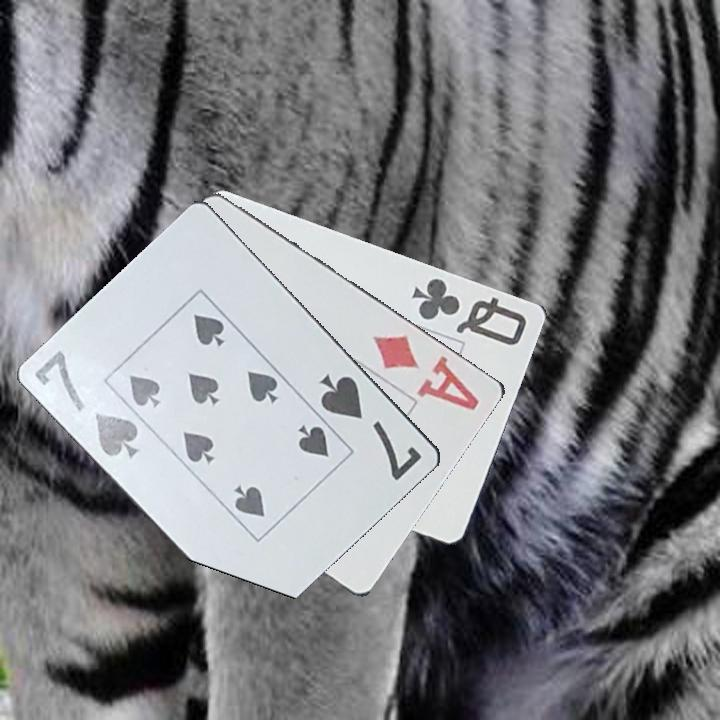7s: (31, 346, 147, 462), (316, 369, 426, 484)
Ad: (369, 330, 483, 414)
Qc: (408, 274, 531, 349)
